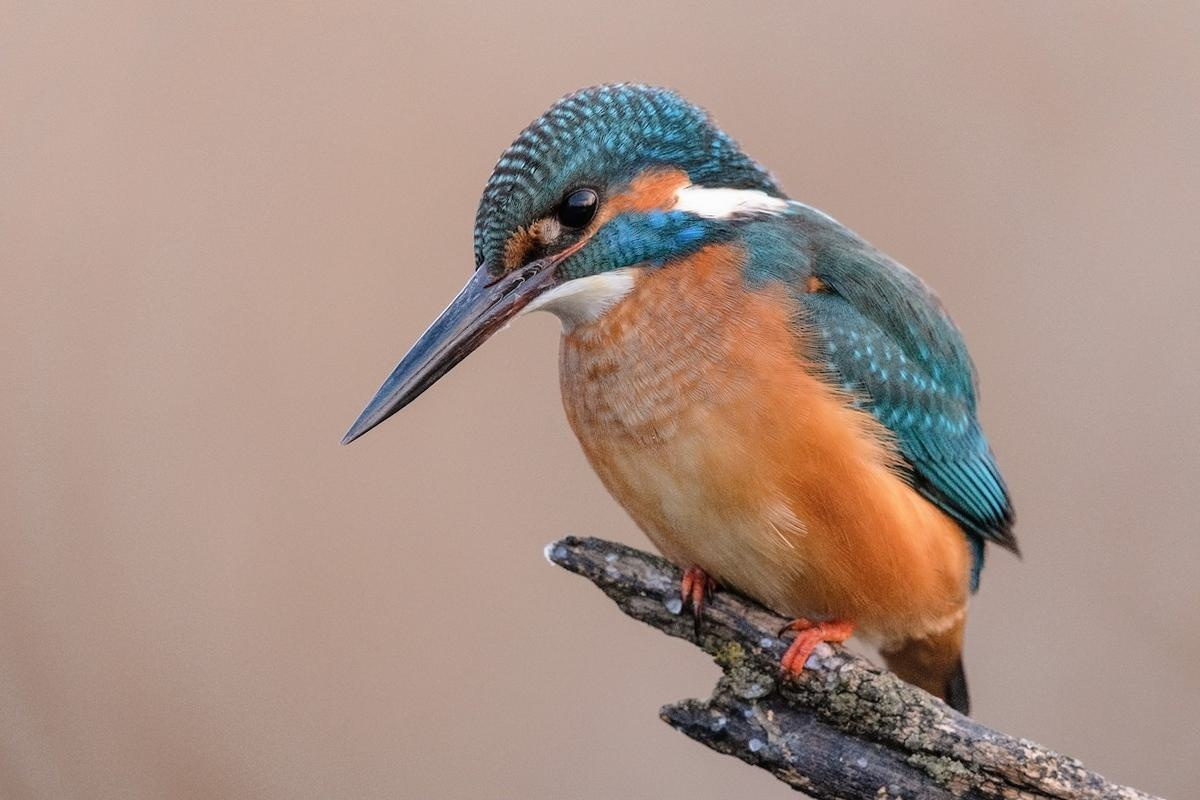kingfisher: (339, 72, 1045, 717)
